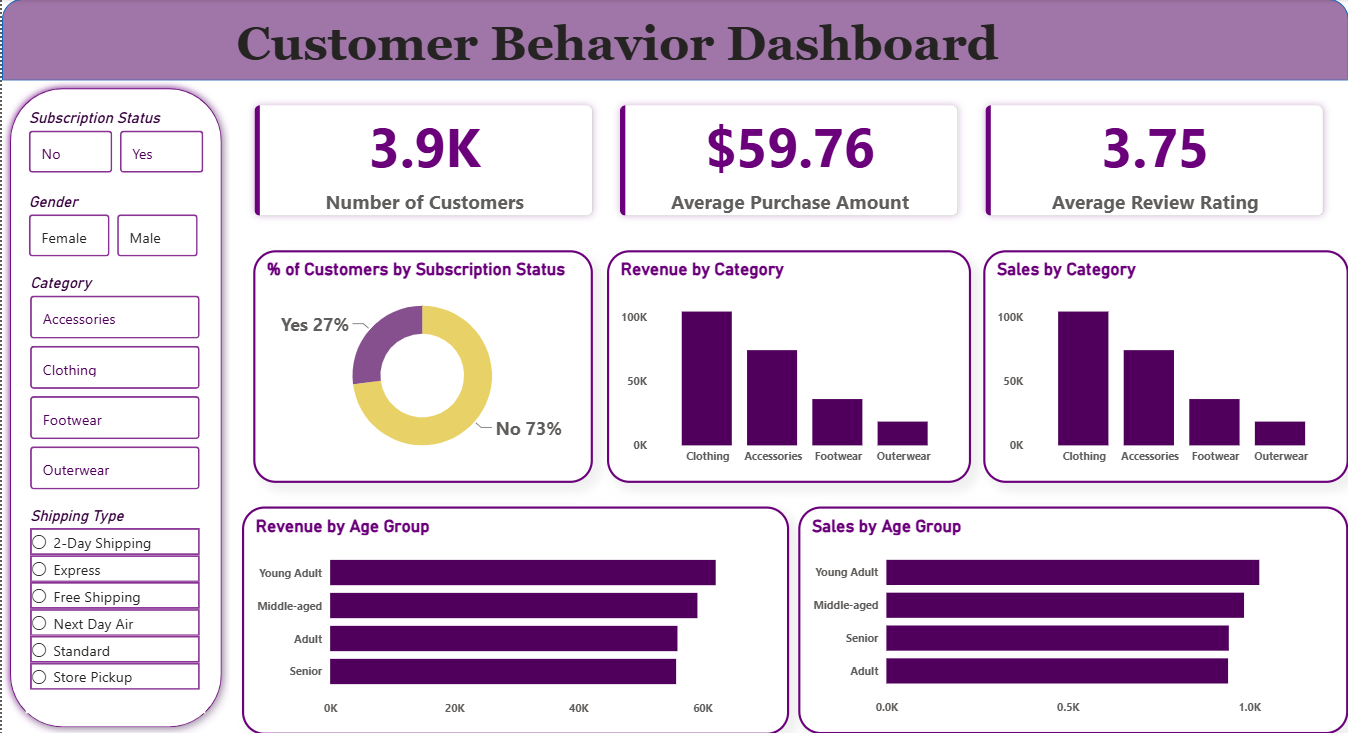

This screenshot's page, from the dashboard's own definition file:
{"tool":"powerbi","page":{"name":"Page 1","canvas":[1500,820],"ordinal":0},"visuals":[{"type":"cardVisual","fields":{"Data":["customer_behavior customer.Number of Customers","customer_behavior customer.Average Purchase Amount","customer_behavior customer.Average Review Rating"]},"box":[253.1,90,1247.2,179.9],"z":0},{"type":"shape","box":[0,0,1500.3,90.8],"z":1000},{"type":"textbox","box":[176.6,13.5,1017.6,87.5],"z":2000},{"type":"donutChart","title":"% of Customers by Subscription Status","fields":{"Category":["customer_behavior customer.subscription_status"],"Y":["CountNonNull(customer_behavior customer.customer_id)"]},"box":[280.5,280.5,378.1,259.2],"z":3000},{"type":"clusteredColumnChart","title":"Revenue by Category","fields":{"Y":["Sum(customer_behavior customer.purchase_amount)"],"Category":["customer_behavior customer.category"]},"box":[673.9,280.5,405.6,259.2],"z":4000},{"type":"clusteredColumnChart","title":"Sales by Category","fields":{"Y":["Sum(customer_behavior customer.purchase_amount)"],"Category":["customer_behavior customer.category"]},"box":[1093.2,280.5,407.1,259.2],"z":5000},{"type":"shape","box":[0,90.1,253.7,730],"z":6000},{"type":"advancedSlicerVisual","title":"Subscription Status","fields":{"Values":["customer_behavior customer.subscription_status"]},"box":[24.4,122,204.3,76.2],"z":7000},{"type":"advancedSlicerVisual","title":"Gender","fields":{"Values":["customer_behavior customer.gender"]},"box":[24.4,216.5,199.7,76.2],"z":8000},{"type":"advancedSlicerVisual","title":"Category","fields":{"Values":["customer_behavior customer.category"]},"box":[25.9,306.5,199.7,247],"z":9000},{"type":"listSlicer","title":"Shipping Type","fields":{"Values":["customer_behavior customer.shipping_type"]},"box":[25.9,565.7,199.7,230.2],"z":10000},{"type":"clusteredBarChart","title":"Revenue by Age Group","fields":{"Y":["Sum(customer_behavior customer.purchase_amount)"],"Category":["customer_behavior customer.age_group"]},"box":[266.8,565.7,609.9,254.6],"z":11000},{"type":"clusteredBarChart","title":"Sales by Age Group","fields":{"Category":["customer_behavior customer.age_group"],"Y":["CountNonNull(customer_behavior customer.customer_id)"]},"box":[887.5,565.5,613,253.9],"z":12000}]}

Visuals, with their boxes in screenshot pixels (x1, y1, x2, y2), scaled from the page's 1500x820 canvas onto the 1348x733 screenshot:
cardVisual - customer_behavior customer.Number of Customers x customer_behavior customer.Average Purchase Amount: l=227, t=80, r=1347, b=241
shape: l=0, t=0, r=1347, b=81
textbox: l=159, t=12, r=1073, b=90
"% of Customers by Subscription Status" donutChart: l=252, t=251, r=592, b=482
"Revenue by Category" clusteredColumnChart: l=606, t=251, r=970, b=482
"Sales by Category" clusteredColumnChart: l=982, t=251, r=1347, b=482
shape: l=0, t=81, r=228, b=732
"Subscription Status" advancedSlicerVisual: l=22, t=109, r=206, b=177
"Gender" advancedSlicerVisual: l=22, t=194, r=201, b=262
"Category" advancedSlicerVisual: l=23, t=274, r=203, b=495
"Shipping Type" listSlicer: l=23, t=506, r=203, b=711
"Revenue by Age Group" clusteredBarChart: l=240, t=506, r=788, b=732
"Sales by Age Group" clusteredBarChart: l=798, t=506, r=1347, b=732
